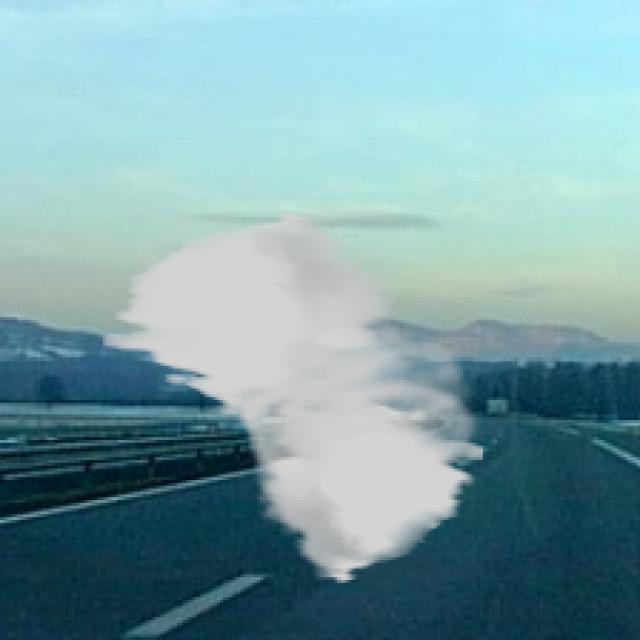smoke: (103, 211, 486, 586)
